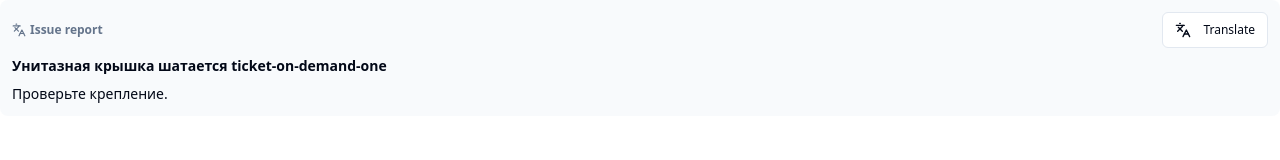
Scenario: forwarded maintenance on-demand translation › does not translate a list card on mount; batches fields when requested
Later steps or results of the test are not shown.
Expected: the text "Унитазная крышка шатается ticket-on-demand-one" is shown, [12, 56, 387, 75]
Click the button "Translate": (1215, 30) [1162, 12, 1268, 48]
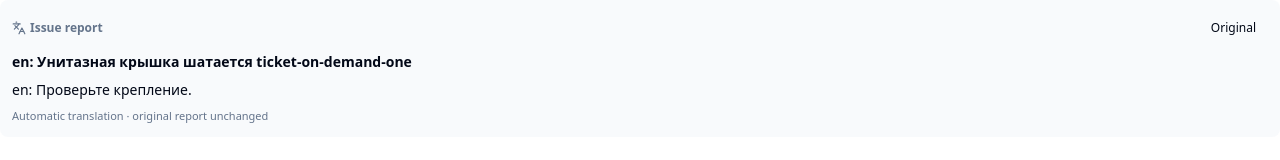
Expected: the text "en: Унитазная крышка шатается ticket-on-demand-one" is shown, [12, 52, 412, 71]
